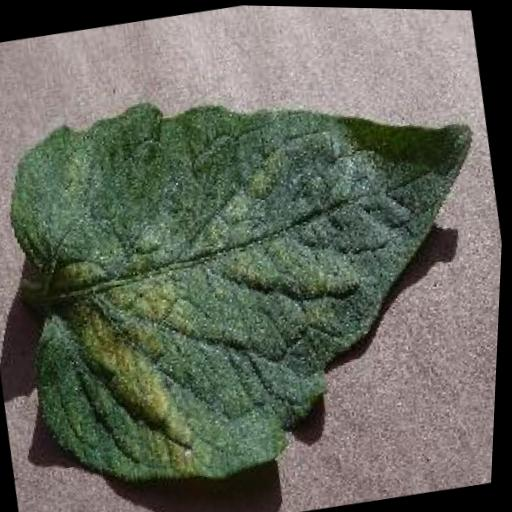Spider Mites: (0, 39, 511, 510)
